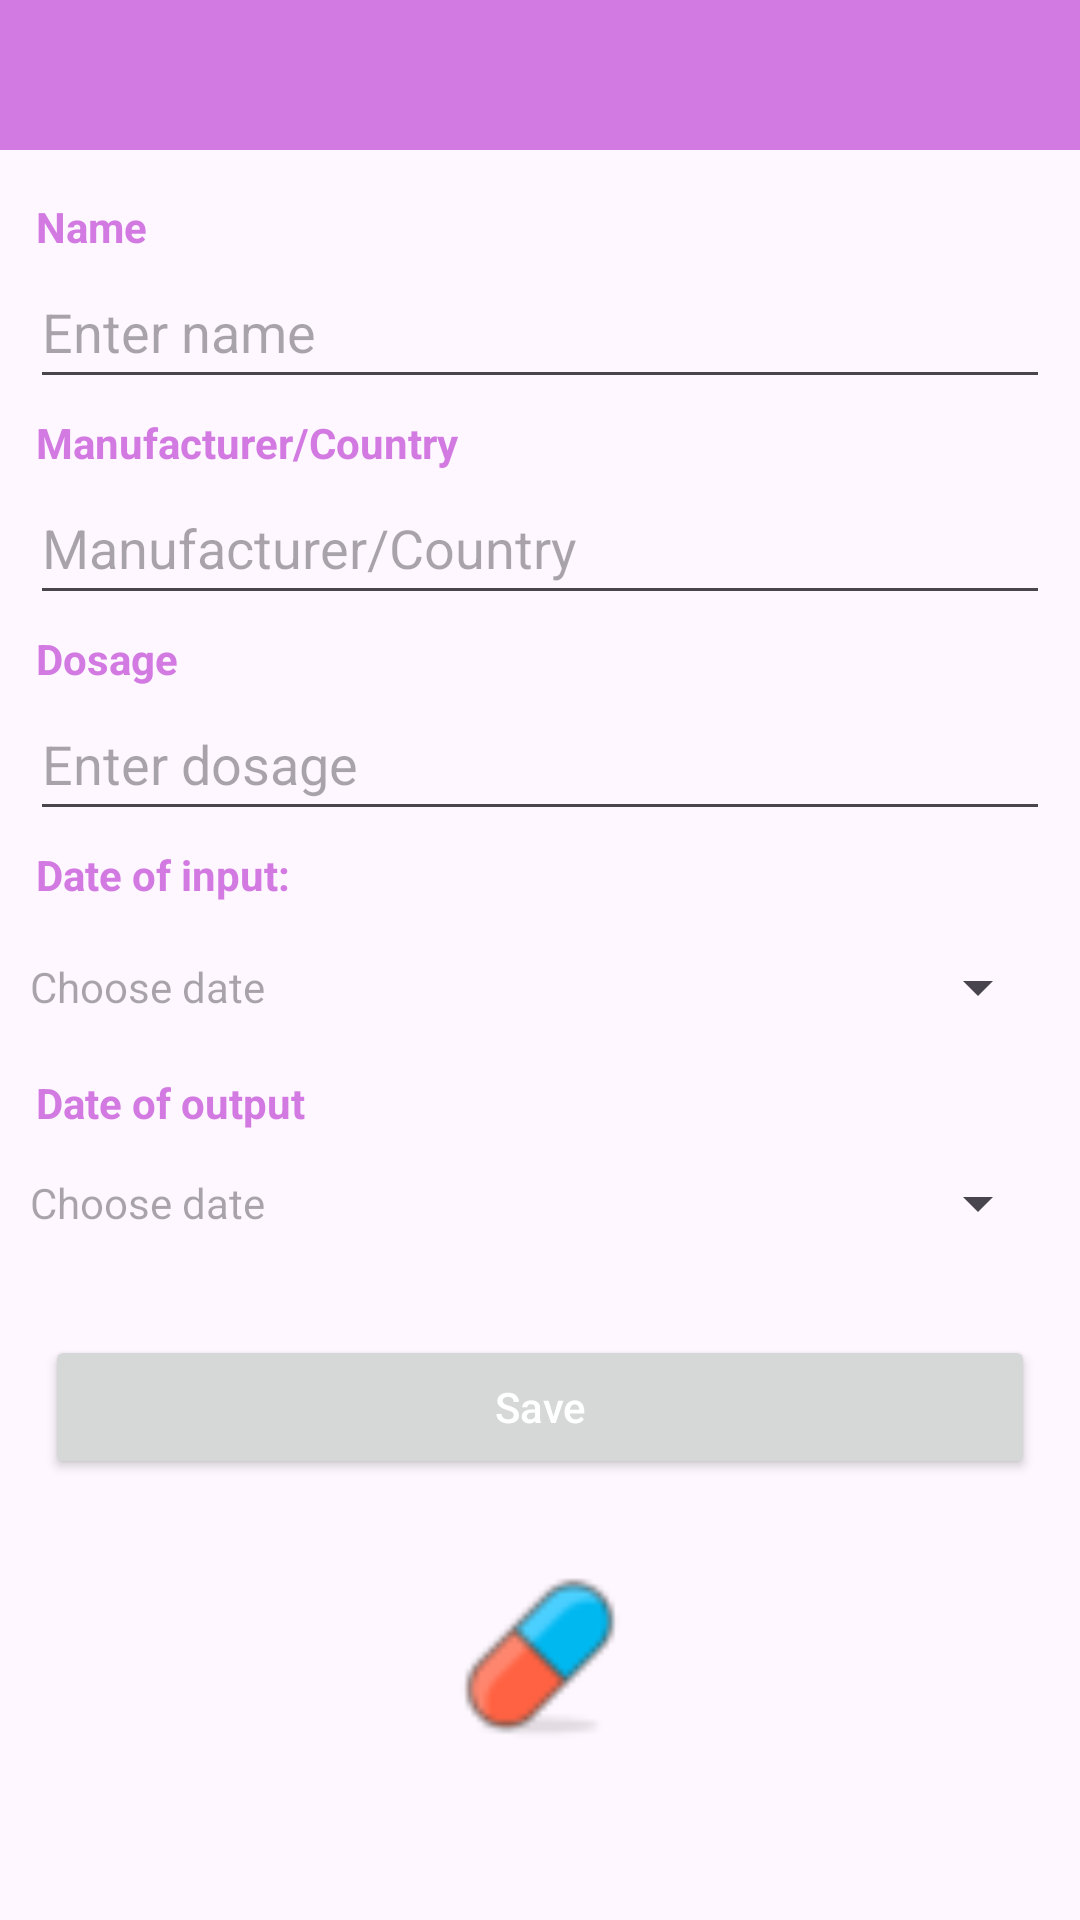

Icons on this 1080 x 1920 Android screen, each with its box as (x1, y1, x2, y2):
pill: (465, 1579, 615, 1733)
